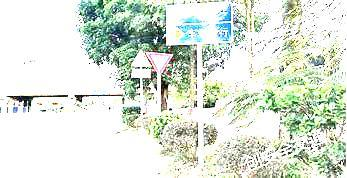sign: (164, 5, 231, 43)
